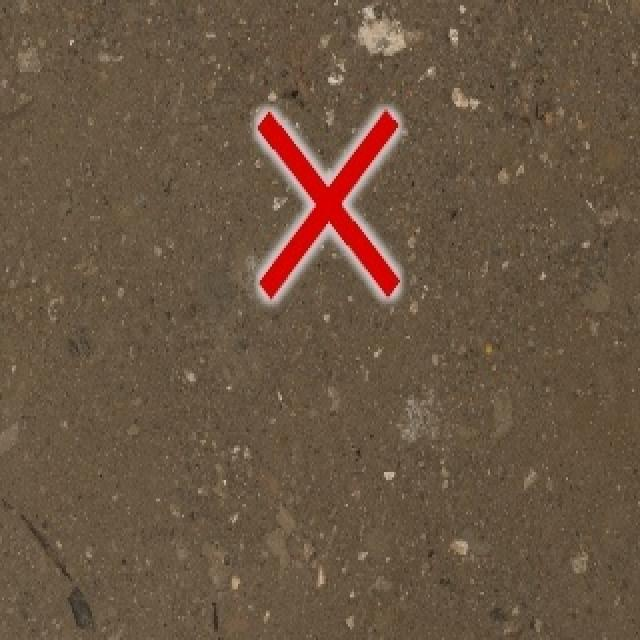x_marker: (257, 111, 397, 297)
